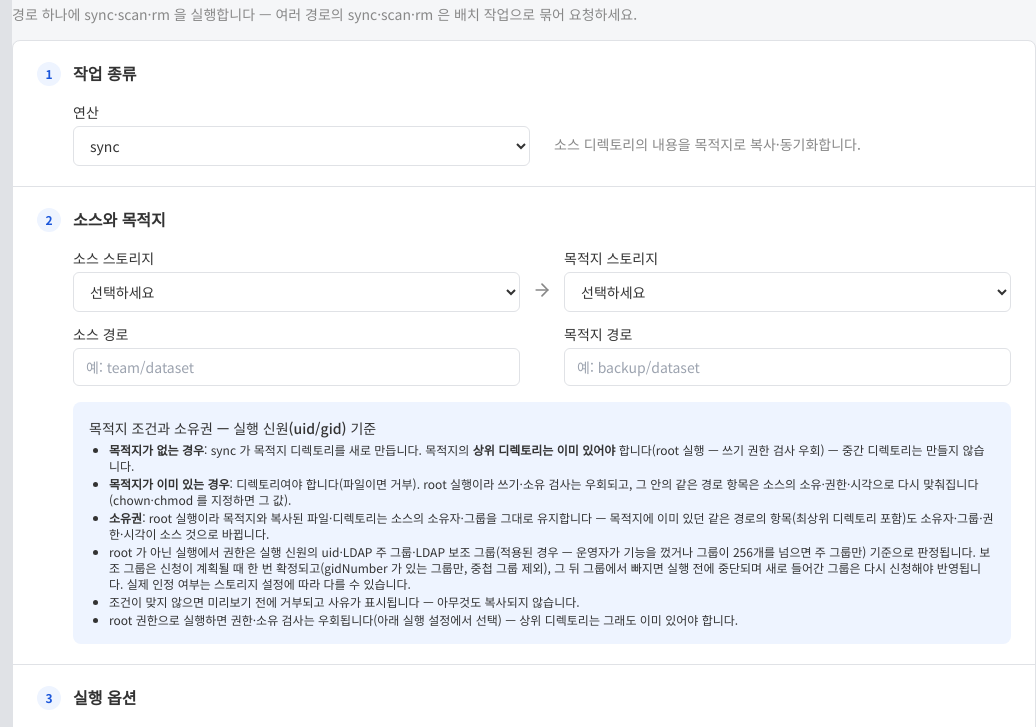
Test: 제출 요약은 빈 폼에선 '—' 와 남은 입력을, 다 채우면 값을 보이고 버튼이 풀린다
Expected: the dropdown labelled "연산" is shown, left=73, top=126, right=530, bottom=166
Select "cephfs" in the dropdown labelled "소스 스토리지" at x=296, y=292, box left=73, top=272, right=520, bottom=312
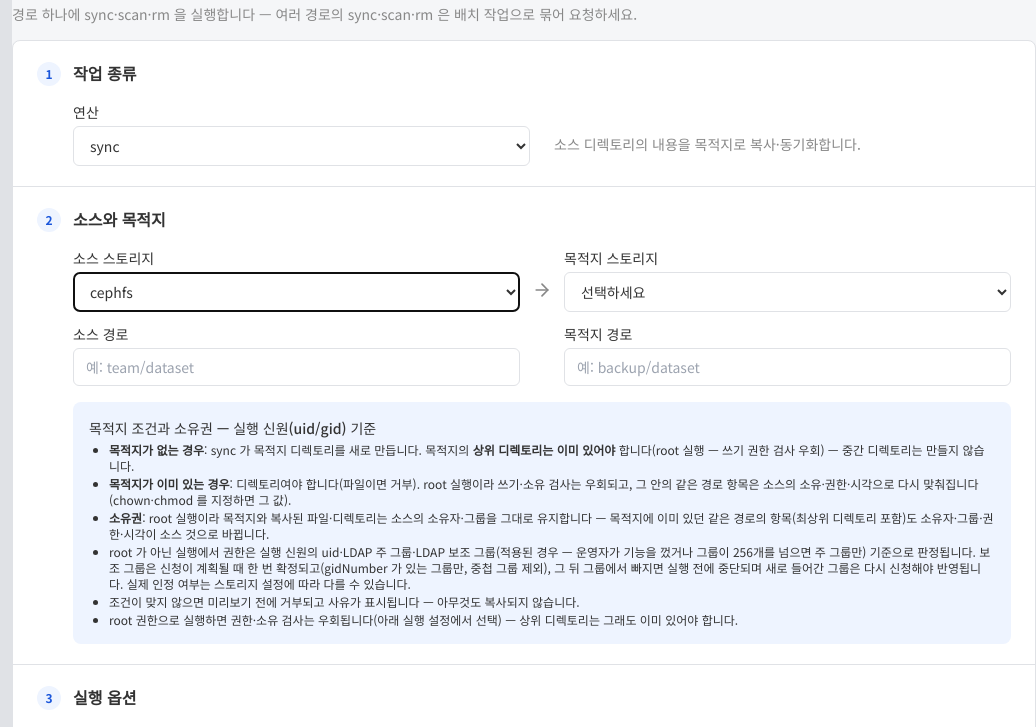
Type "a/b" into the field labelled "소스 경로".
click(296, 367); type("a/b")  # box left=73, top=348, right=520, bottom=386
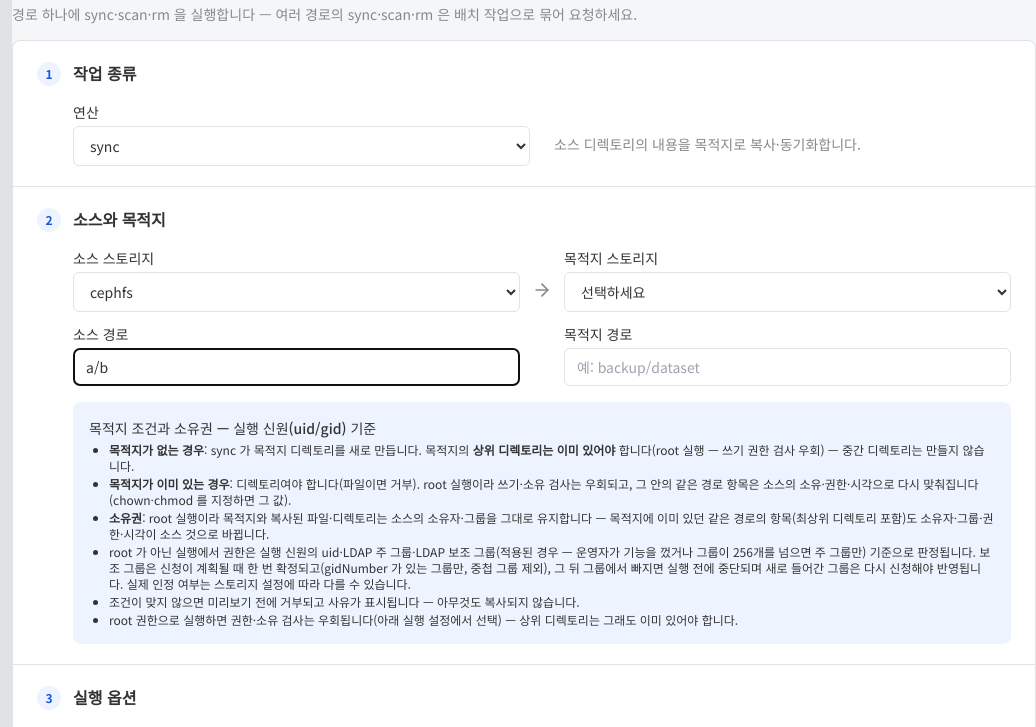
Select "cephfs-secondary" in the dropdown labelled "목적지 스토리지" at x=788, y=292, box left=564, top=272, right=1011, bottom=312
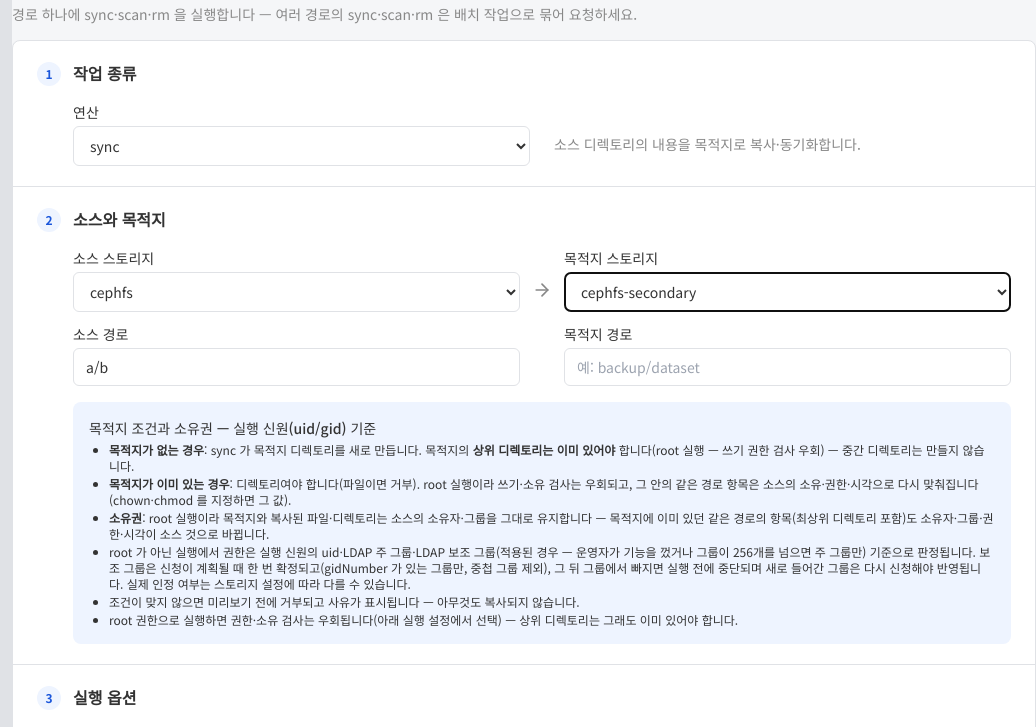
Type "c/d" into the field labelled "목적지 경로".
click(788, 367); type("c/d")  # box left=564, top=348, right=1011, bottom=386
(page scrolled)
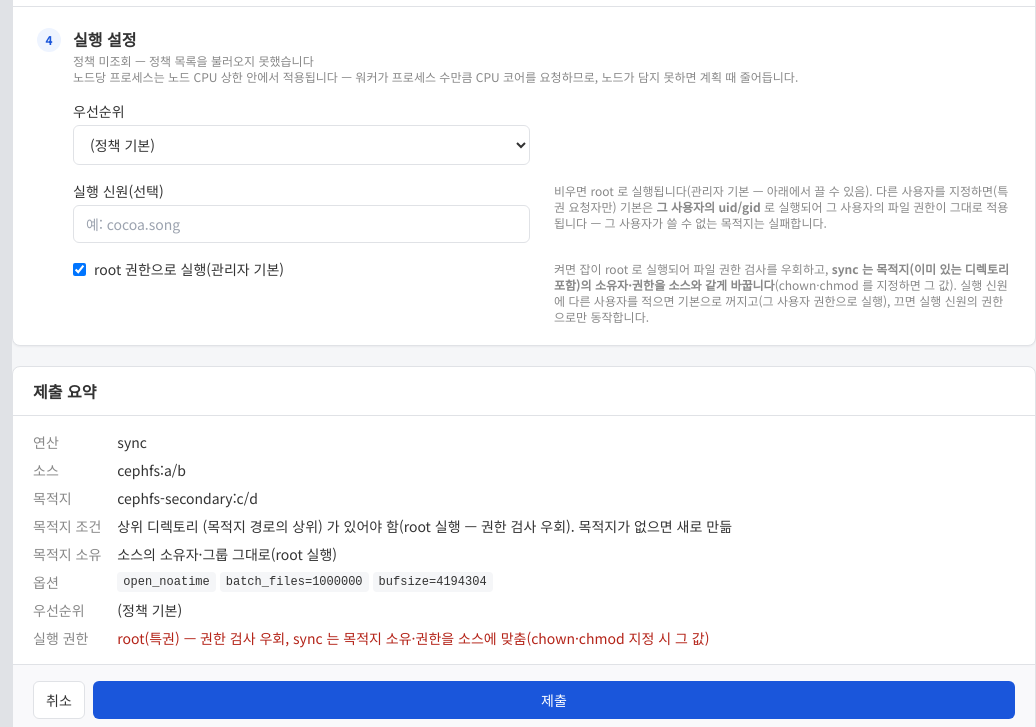
Now the text "cephfs:a/b" is shown, box left=117, top=460, right=186, bottom=480
Now the text "cephfs-secondary:c/d" is shown, box left=117, top=488, right=258, bottom=508
Now the button "제출" is enabled, box left=93, top=681, right=1015, bottom=719
